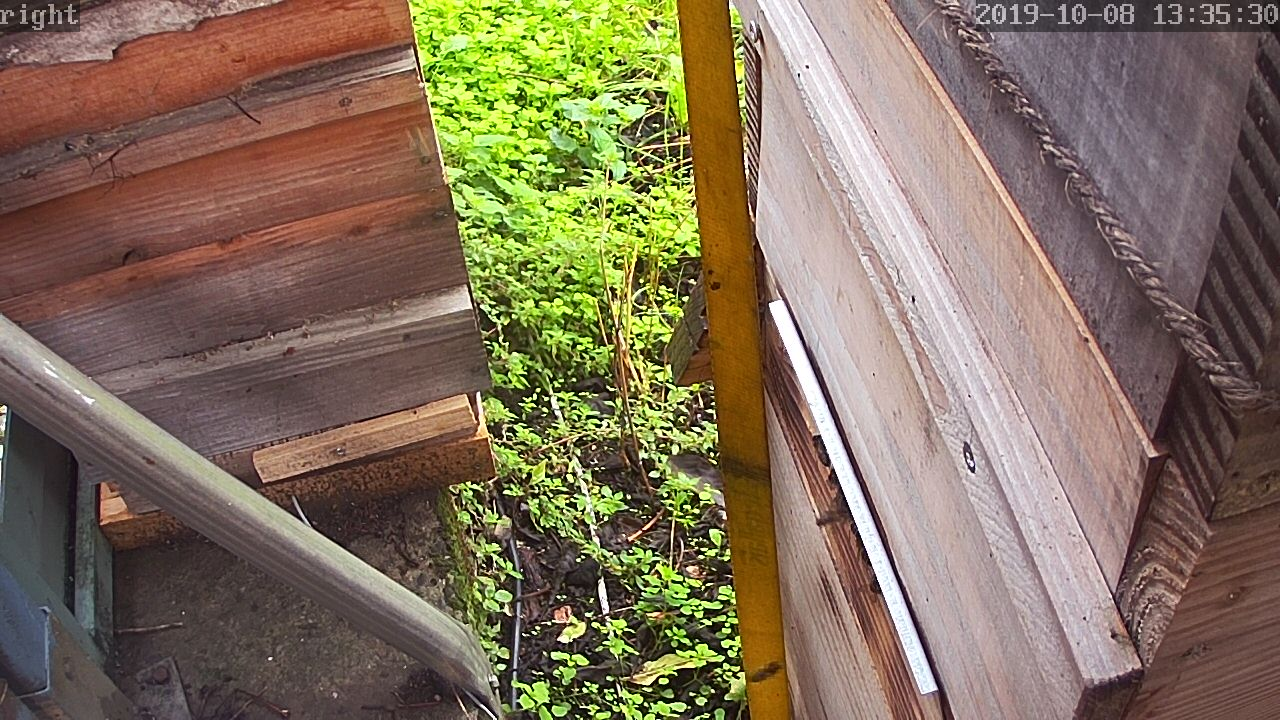bee: (810, 494, 851, 535), (845, 530, 879, 570), (802, 431, 832, 476), (748, 656, 784, 690)
